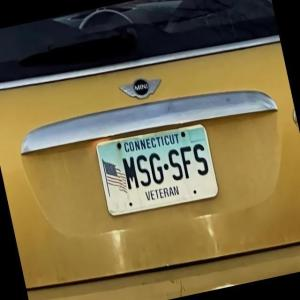Plate: (93, 122, 219, 218)
